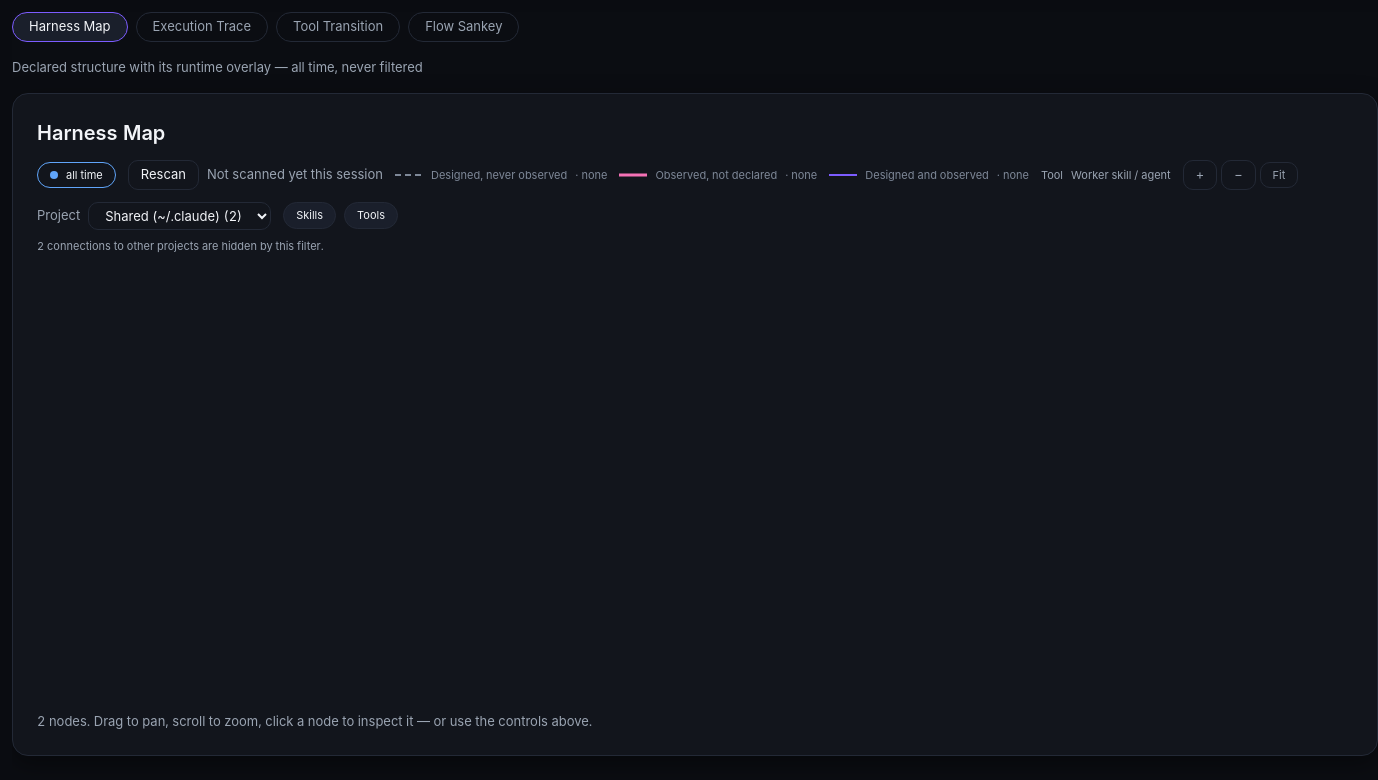
it: §6.7 Harness Map — making ~555 nodes navigable (ADR-039) › hides a kind on toggle and shows it again, changing the drawn node set
This screenshot has width=1378, height=780.
Expected: the element with test id "harness-flow" is shown, [13,266,1377,700]
Note: Drop tools: Read leaves, the node set shrinks (which is what re-fits the camera).
Click the button with test id "harness-kind-tools" at (371, 216), box [344,202,398,229]
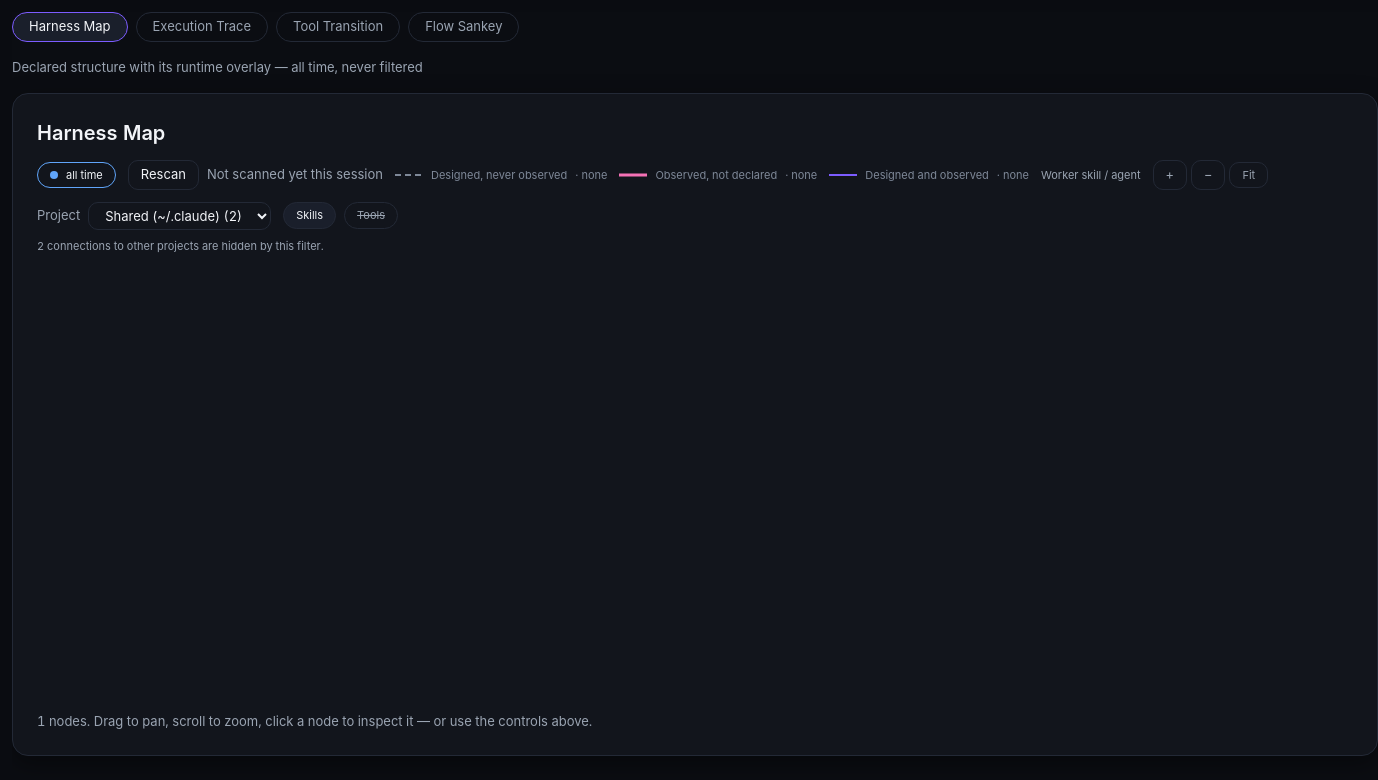
Note: Toggle it back on: Read returns.
Click the button with test id "harness-kind-tools" at (371, 216), box [344,202,398,229]
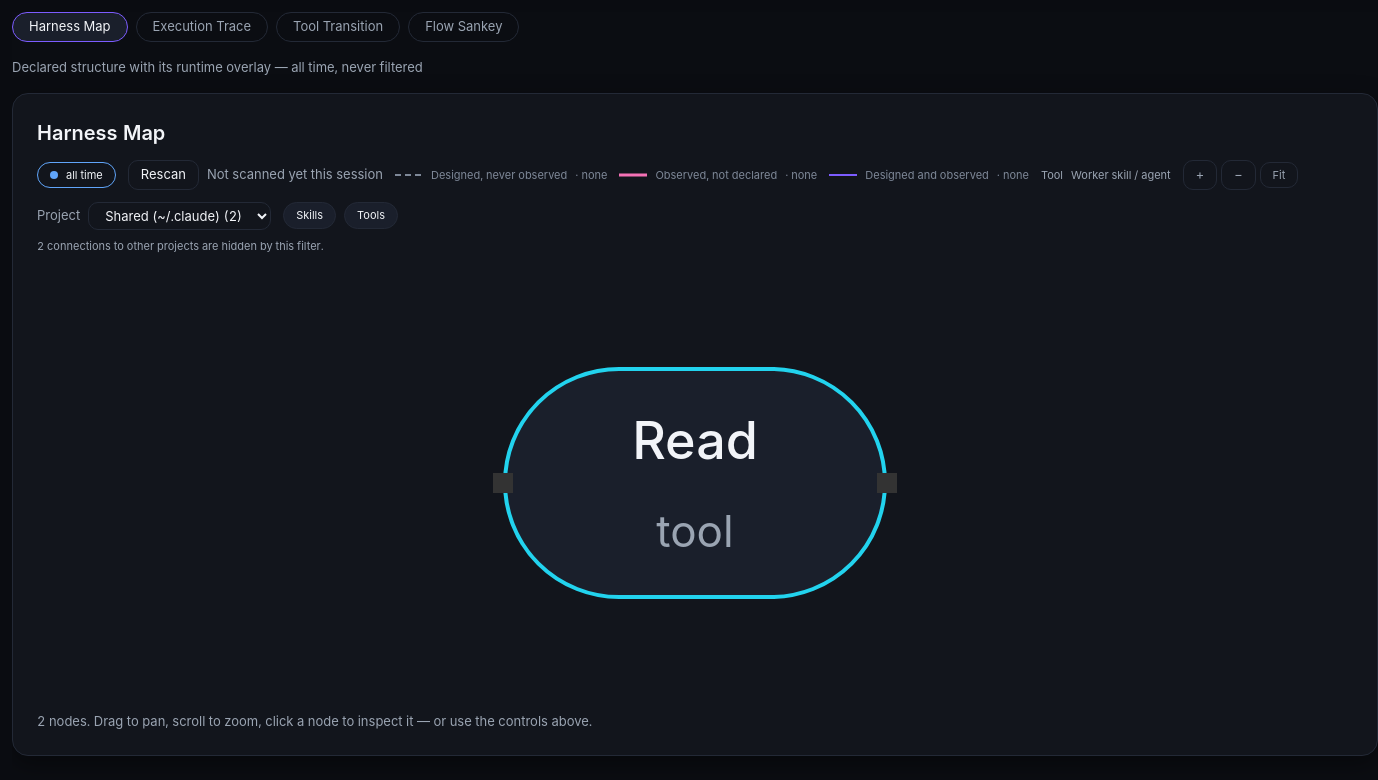
Now the element with test id "flow-node" is shown, box [503,367,887,599]
